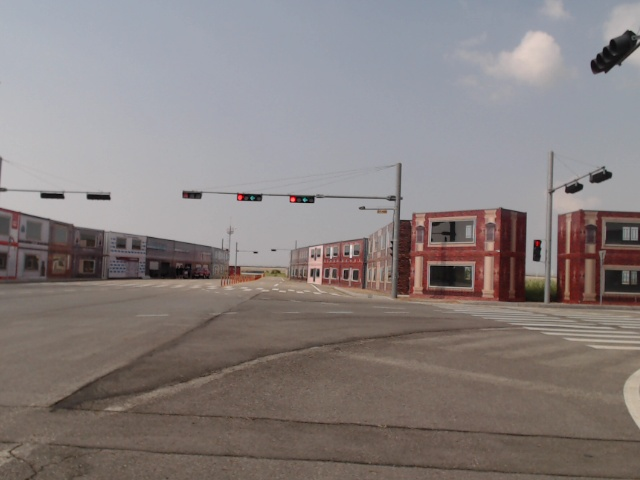left_green_4: (237, 194, 262, 202), (290, 196, 314, 203)
